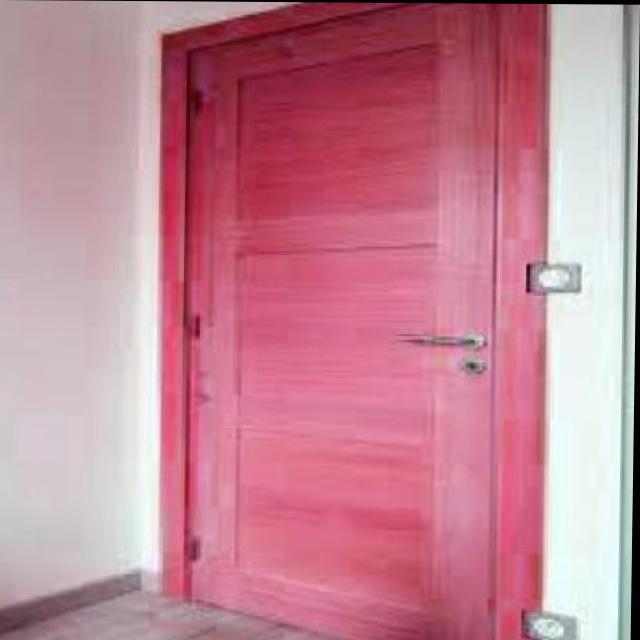door_handle: (391, 323, 490, 359)
